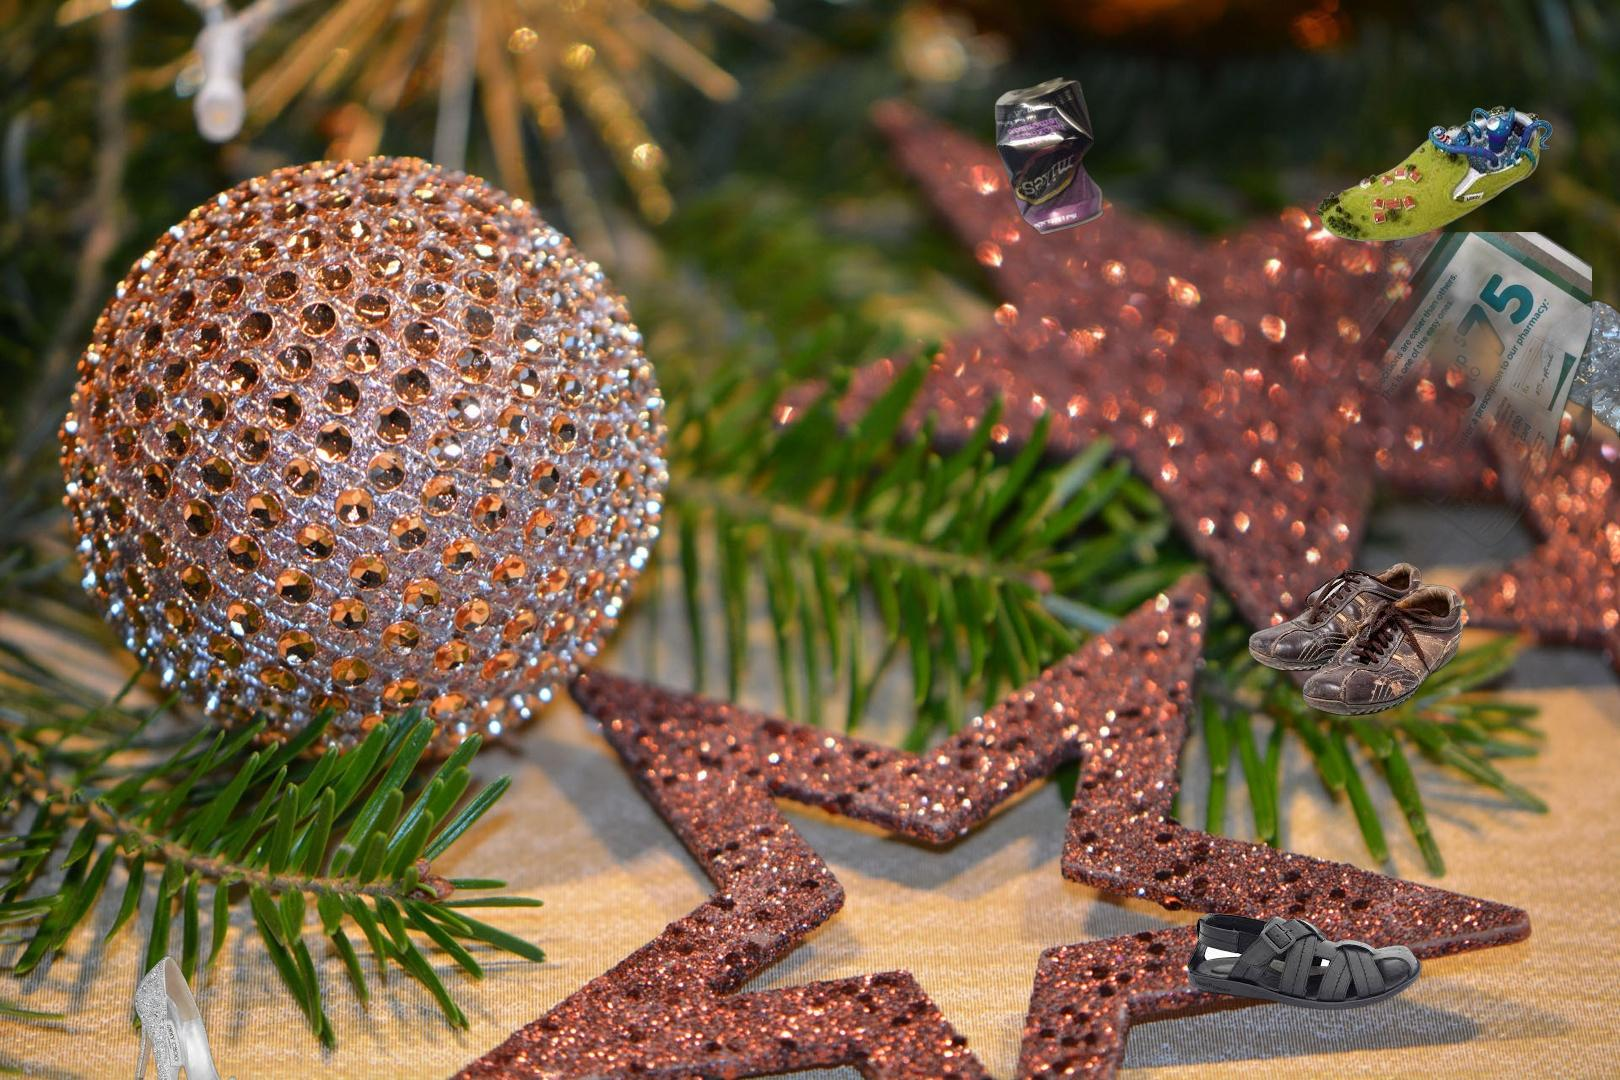metal-cans: (991, 74, 1107, 237)
paper: (1080, 231, 1592, 616)
plastic-bottles: (1537, 297, 1620, 517)
shoes: (1311, 100, 1557, 266), (1246, 559, 1465, 718), (1184, 906, 1425, 1012), (133, 953, 278, 1080)
